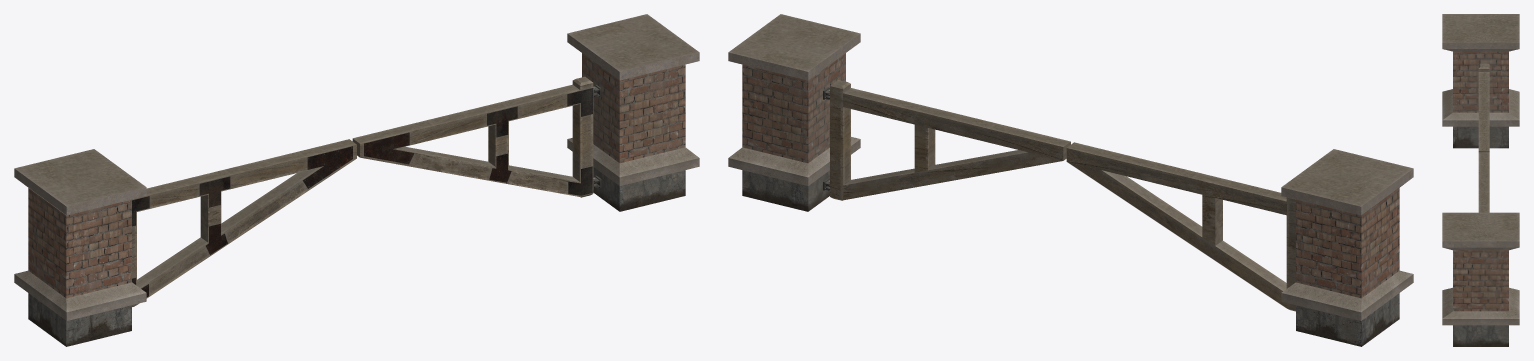
File: door.obj
3 views of the same model, side by side, from view 1: azimuth 30°, elevation 25°; view 2: azimuth 150°, elevation 25°; view 3: azimuth 270°, elevation 25° (orthographic). The views are drawn at different scales.
Parts seen in each view (by area): view 1: Box002; view 2: Box002; view 3: Box002.
Boxes of the visible parts, box(x1,y1,x2,y2) form: Box002: box(14, 14, 699, 346); Box002: box(728, 14, 1413, 346); Box002: box(1442, 14, 1519, 346).
Bounding box in the file's own units: 721 × 160 × 104.
Materials: 1 (1 with a texture image).
